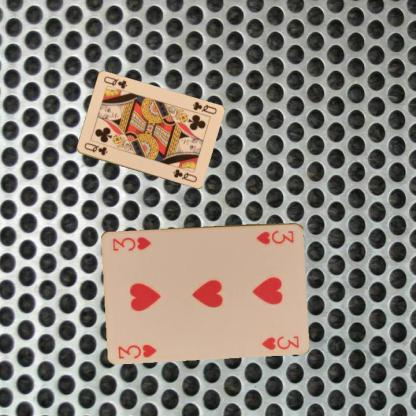3h: (116, 341, 158, 360), (254, 228, 295, 245)
Qc: (189, 98, 218, 115), (82, 140, 108, 156)
